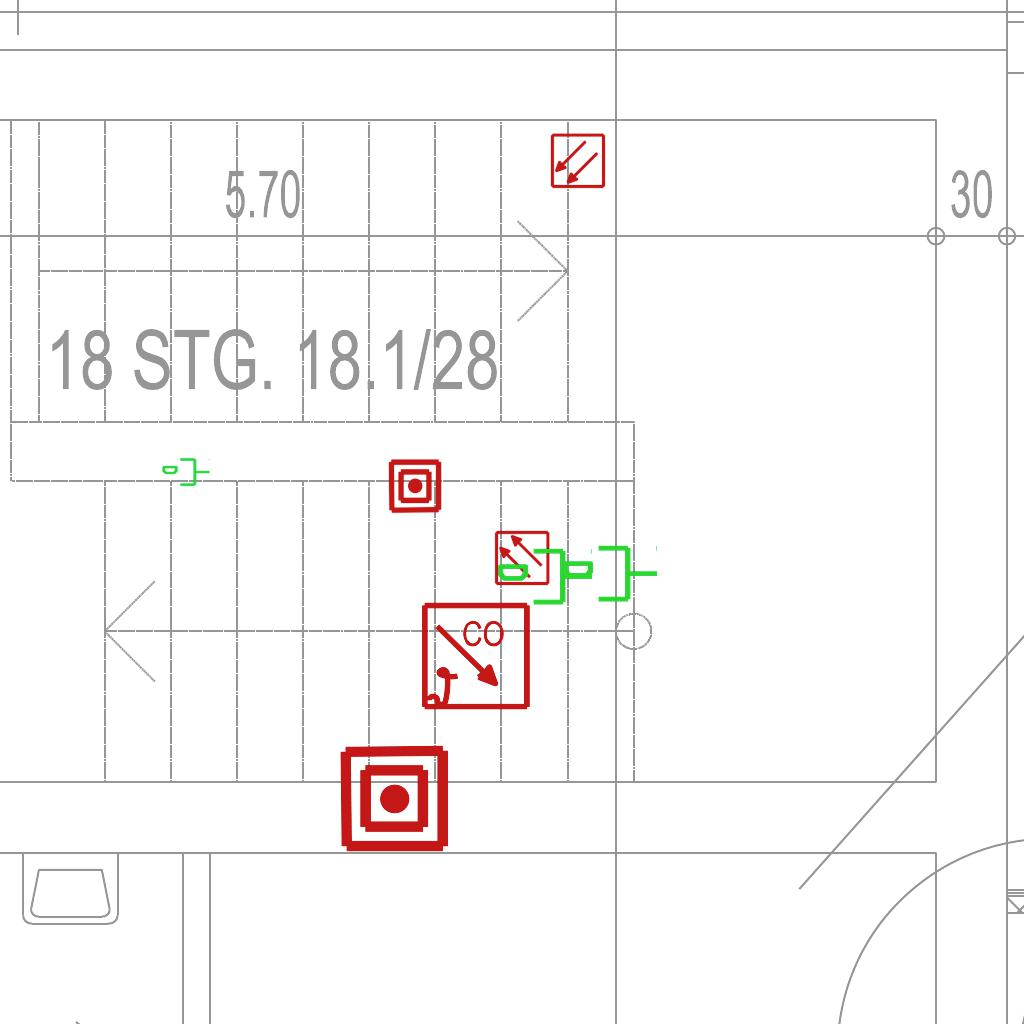Datenanschluss_einfach: (560, 541, 660, 610), (495, 544, 595, 613), (161, 456, 211, 490)
NAM-Nichtautomatischer_Melder: (338, 742, 451, 855), (387, 458, 443, 514)
RMO_Rauchmelder_optischer: (494, 530, 550, 586), (550, 133, 606, 189)
ROA_Rauchmelder_optisch_mit_Signalgeber_(Sockelsirene): (420, 601, 533, 714)
